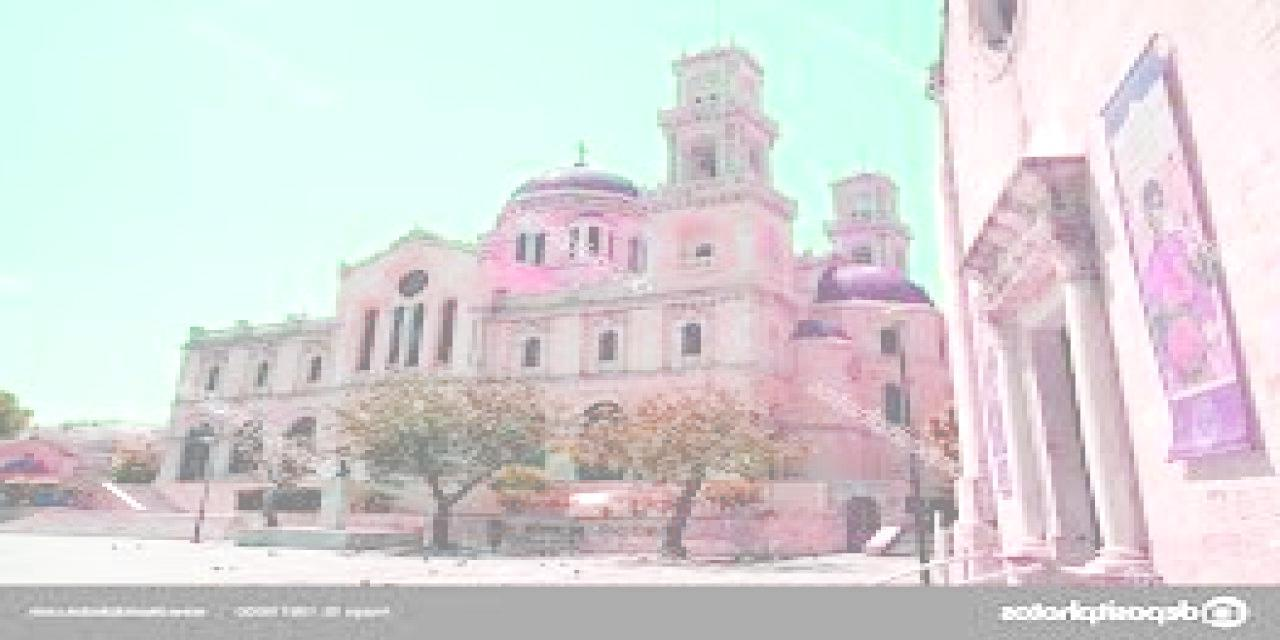Agios Minas: (184, 15, 929, 541)
